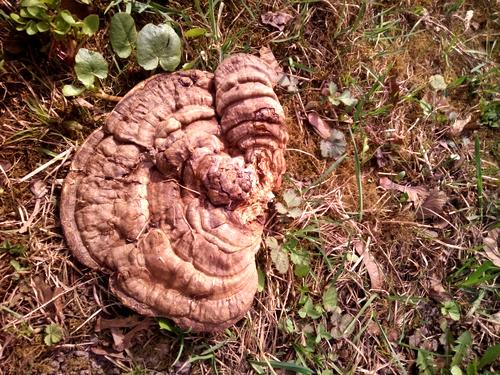Ganoderma - Fruit Body: (57, 50, 290, 336)
